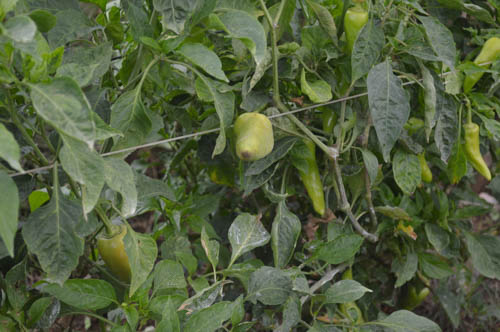ChiliPepper: (298, 137, 329, 216), (233, 114, 277, 166), (96, 229, 134, 283), (342, 8, 370, 66), (465, 123, 490, 179), (473, 37, 497, 77)
